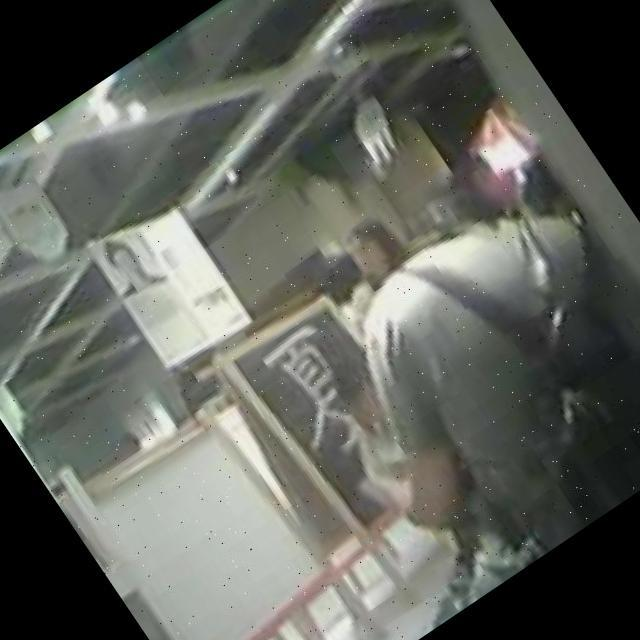person: (287, 158, 640, 604)
